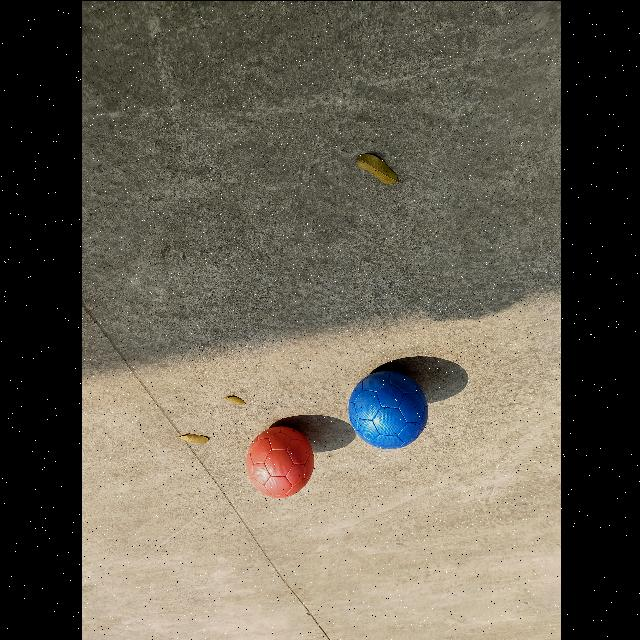B: (346, 363, 428, 449)
R: (243, 420, 314, 498)
